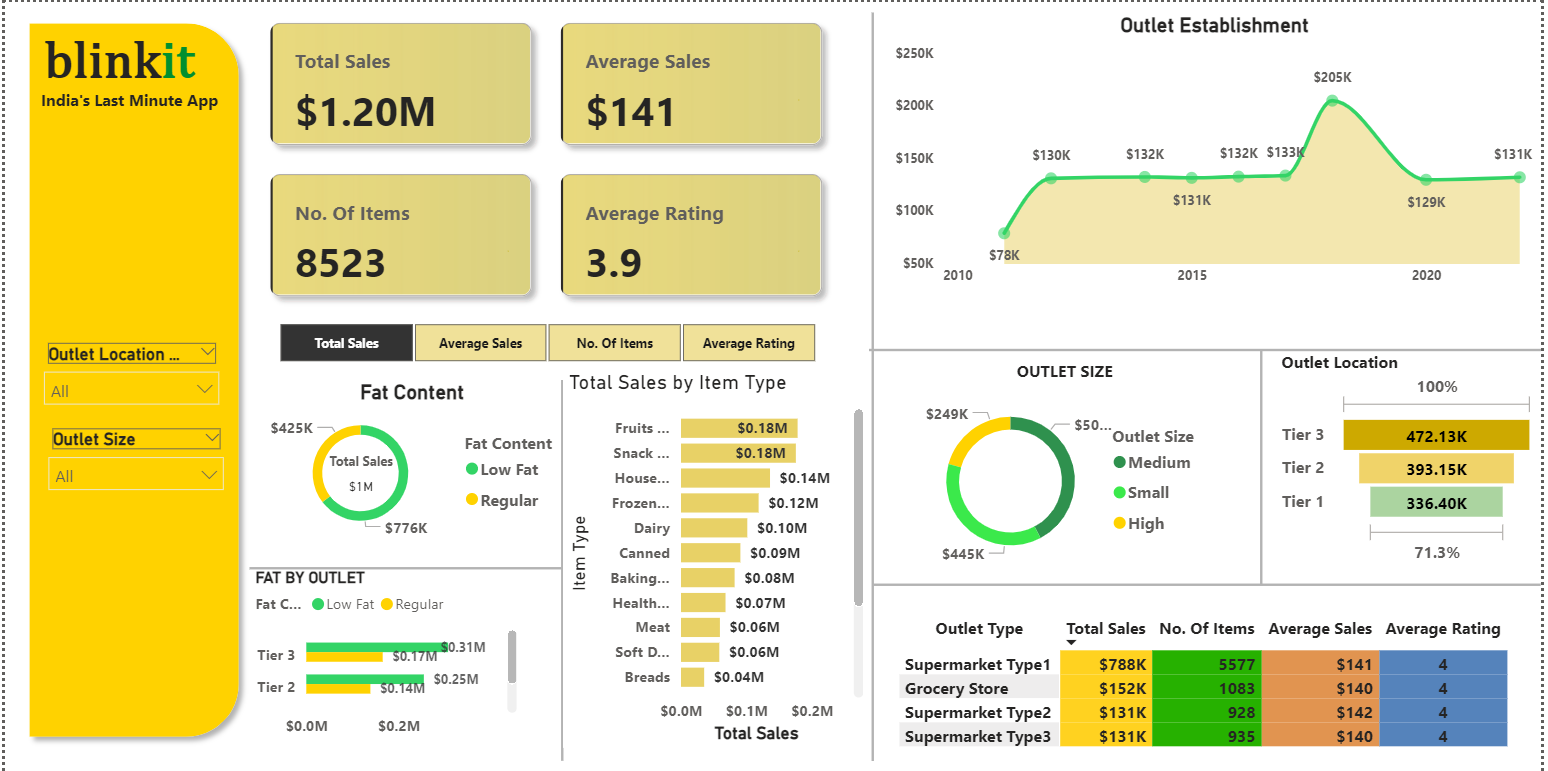

This screenshot's page, from the dashboard's own definition file:
{"tool":"powerbi","page":{"name":"Page 2","canvas":[1280,720],"ordinal":0},"visuals":[{"type":"shape","box":[11.2,8.8,192.5,612.5],"z":0},{"type":"textbox","box":[387.5,230,192.5,152.5],"z":1000},{"type":"textbox","box":[27.5,21.2,151.2,63.8],"z":2000},{"type":"textbox","box":[25,66.2,167.5,36.2],"z":3000},{"type":"cardVisual","fields":{"Data":["BlinkIT Grocery Data.TOTAL SALES","BlinkIT Grocery Data.AVG SALES","BlinkIT Grocery Data.Number Of Items","BlinkIT Grocery Data.average rating"]},"box":[203.8,0,495,262.5],"z":4000},{"type":"slicer","fields":{"Values":["Parameter.Parameter"]},"box":[203.8,261.2,495,45],"z":5000},{"type":"donutChart","title":"Fat Content","fields":{"Y":["BlinkIT Grocery Data.Total Sales"],"Category":["BlinkIT Grocery Data.Item Fat Content"]},"box":[203.8,315,271.2,135],"z":6000},{"type":"cardVisual","fields":{"Data":["BlinkIT Grocery Data.Total Sales"]},"box":[233.8,345,126.2,95],"z":7000},{"type":"clusteredBarChart","title":"FAT BY OUTLET","fields":{"Category":["BlinkIT Grocery Data.Outlet Location Type"],"Y":["BlinkIT Grocery Data.Total Sales"],"Series":["BlinkIT Grocery Data.Fat Content"]},"box":[203.8,472.5,227.5,148.8],"z":8000},{"type":"shape","box":[203.8,392.5,261.2,158.8],"z":9000},{"type":"shape","box":[422.5,315,83.8,317.5],"z":10000},{"type":"barChart","fields":{"Y":["BlinkIT Grocery Data.Total Sales"],"Category":["BlinkIT Grocery Data.Item Type"]},"box":[465,306.2,255,315],"z":11000},{"type":"lineChart","title":" Outlet Establishment ","fields":{"Y":["BlinkIT Grocery Data.Total Sales"],"Category":["BlinkIT Grocery Data.Outlet Establishment Year"]},"box":[736.2,8.8,543.8,236.2],"z":12000},{"type":"shape","box":[720,273.8,560,32.5],"z":13000},{"type":"shape","box":[698.8,8.8,48.8,623.8],"z":14000},{"type":"donutChart","title":"OUTLET SIZE","fields":{"Y":["BlinkIT Grocery Data.Total Sales"],"Category":["BlinkIT Grocery Data.Outlet Size"]},"box":[747.5,297.5,271.2,188.8],"z":15000},{"type":"funnel","title":"Outlet Location ","fields":{"Y":["Sum(BlinkIT Grocery Data.Sales)"],"Category":["BlinkIT Grocery Data.Outlet Location Type"]},"box":[1058.8,290,221.2,182.5],"z":16000},{"type":"pivotTable","fields":{"Rows":["BlinkIT Grocery Data.Outlet Type"],"Values":["BlinkIT Grocery Data.Total Sales","BlinkIT Grocery Data.No. Of Items","BlinkIT Grocery Data.Average Sales","BlinkIT Grocery Data.Average Rating"]},"box":[740,506.2,525,151.2],"z":17000},{"type":"shape","box":[723.8,472.5,556.2,26.2],"z":18000},{"type":"shape","box":[1035,290,23.8,196.2],"z":19000},{"type":"slicer","fields":{"Values":["BlinkIT Grocery Data.Outlet Location Type"]},"box":[22.5,278.8,166.2,73.8],"z":19001},{"type":"slicer","fields":{"Values":["BlinkIT Grocery Data.Outlet Size"]},"box":[26.2,350,166.2,73.8],"z":19002}]}

Visuals, with their boxes on the page's 1280x720 design canvas (x1, y1, x2, y2). These are canvas units, not pixel positions in the 1548x771 screenshot, which may show the page scaled, cropped or inside an application window:
shape: 11 9 204 621
textbox: 388 230 580 382
textbox: 28 21 179 85
textbox: 25 66 192 102
cardVisual - BlinkIT Grocery Data.TOTAL SALES x BlinkIT Grocery Data.AVG SALES: 204 0 699 262
slicer - Parameter.Parameter: 204 261 699 306
"Fat Content" donutChart: 204 315 475 450
cardVisual - BlinkIT Grocery Data.Total Sales: 234 345 360 440
"FAT BY OUTLET" clusteredBarChart: 204 472 431 621
shape: 204 392 465 551
shape: 422 315 506 632
barChart - BlinkIT Grocery Data.Total Sales x BlinkIT Grocery Data.Item Type: 465 306 720 621
" Outlet Establishment " lineChart: 736 9 1280 245
shape: 720 274 1280 306
shape: 699 9 748 633
"OUTLET SIZE" donutChart: 748 298 1019 486
"Outlet Location " funnel: 1059 290 1280 472
pivotTable - BlinkIT Grocery Data.Outlet Type x BlinkIT Grocery Data.Total Sales: 740 506 1265 657
shape: 724 472 1280 499
shape: 1035 290 1059 486
slicer - BlinkIT Grocery Data.Outlet Location Type: 22 279 189 353
slicer - BlinkIT Grocery Data.Outlet Size: 26 350 192 424
